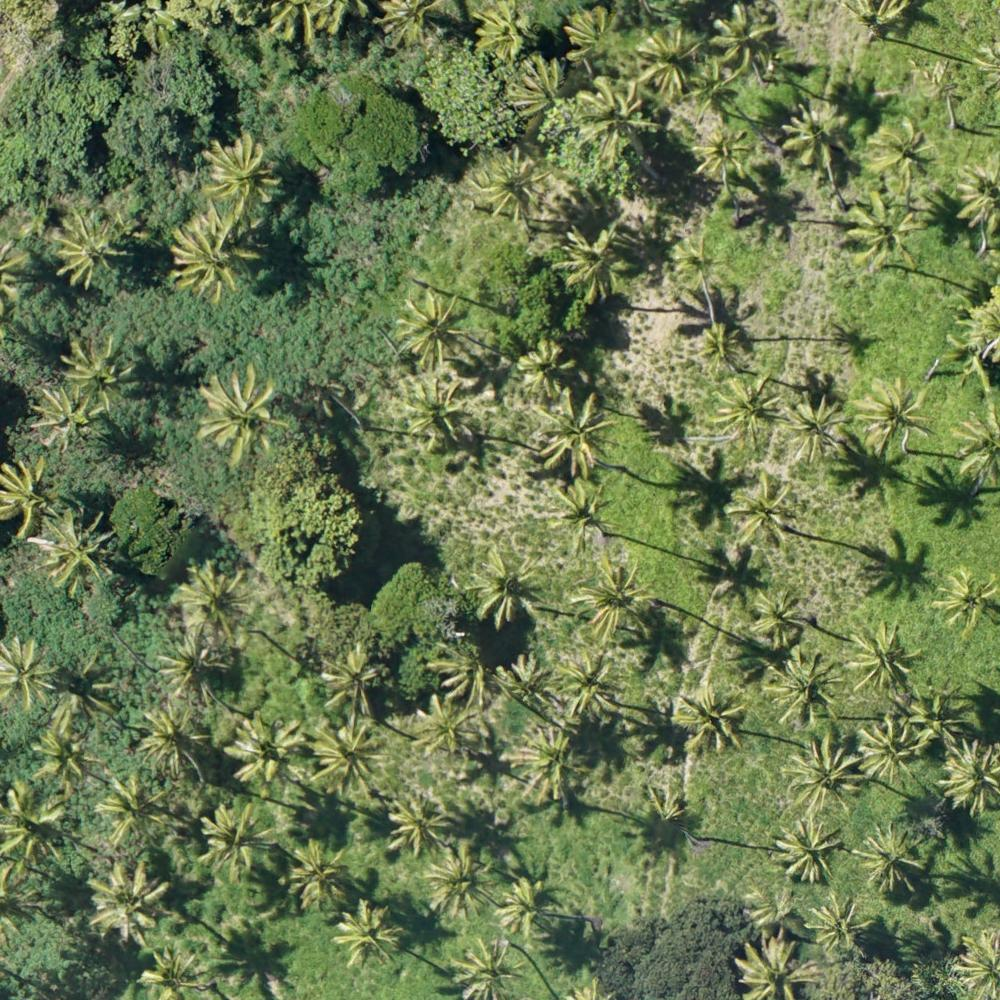not palm: (312, 197, 392, 277)
not plam: (109, 452, 198, 538), (278, 293, 362, 369), (11, 121, 91, 199), (624, 919, 708, 989), (132, 62, 211, 132), (369, 560, 445, 632), (261, 485, 338, 556), (5, 7, 83, 77), (760, 252, 834, 325), (328, 83, 401, 156), (421, 64, 497, 133), (450, 465, 523, 536), (555, 818, 625, 885)
